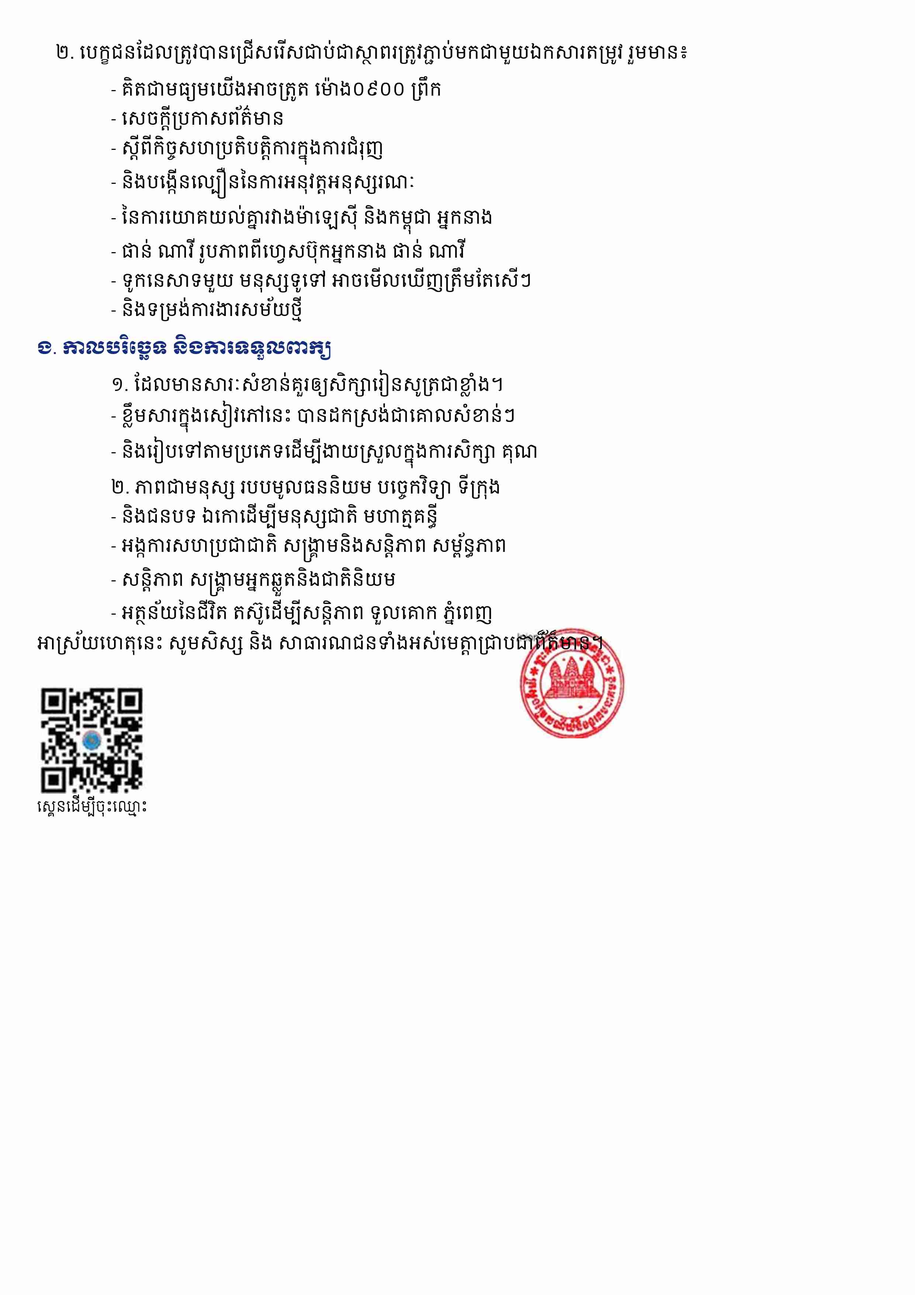decorative: (37, 683, 148, 794), (517, 628, 627, 738)
text: (55, 39, 689, 65), (37, 630, 604, 655), (111, 436, 538, 468), (111, 401, 515, 433), (111, 532, 507, 563), (111, 204, 493, 234), (111, 267, 532, 293), (111, 370, 504, 397), (111, 167, 416, 199), (111, 474, 501, 499), (111, 600, 493, 625), (111, 238, 465, 264), (111, 76, 442, 102), (111, 567, 396, 597), (111, 503, 438, 529), (111, 135, 384, 165), (37, 334, 331, 360), (111, 296, 303, 322), (111, 105, 284, 131), (37, 794, 148, 817)
